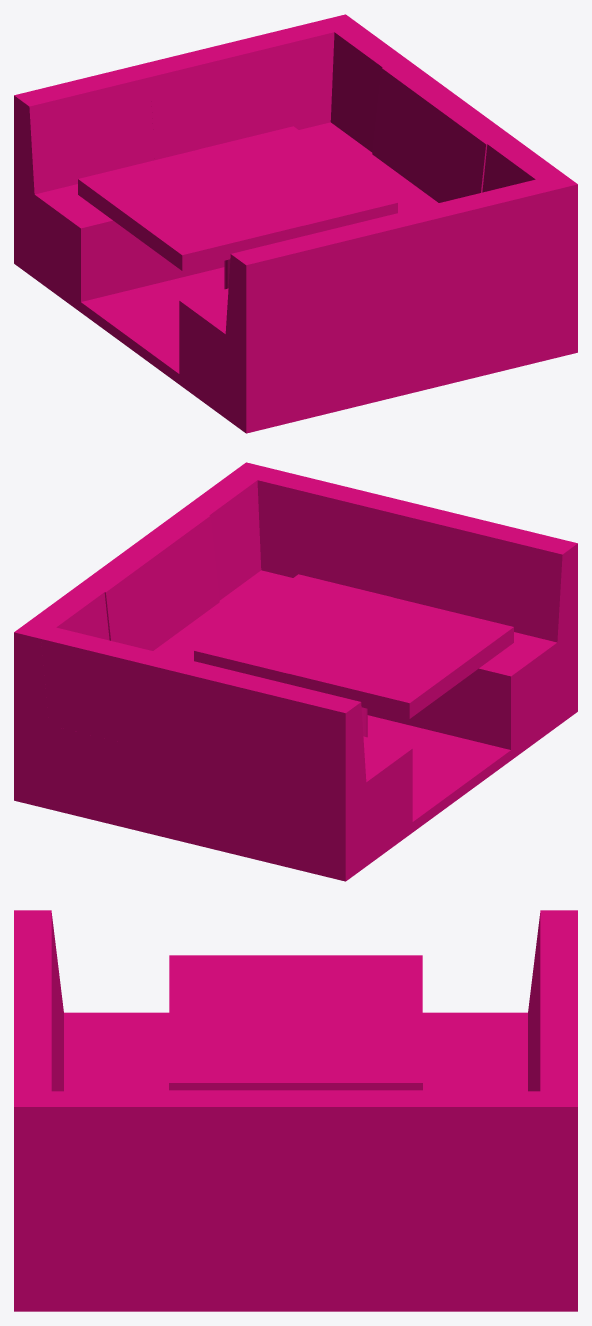
The model's file is table2.dae.
3 views of the same model, one above another, from view 1: azimuth 30°, elevation 25°; view 2: azimuth 150°, elevation 25°; view 3: azimuth 270°, elevation 25° (orthographic). The views are drawn at different scales.
Parts seen in each view (by area): view 1: 28mm_Restaurant_Booth_Horseshoe; view 2: 28mm_Restaurant_Booth_Horseshoe; view 3: 28mm_Restaurant_Booth_Horseshoe.
Part boxes in pixels (x1=…): 28mm_Restaurant_Booth_Horseshoe: x1=14, y1=14, x2=577, y2=433; 28mm_Restaurant_Booth_Horseshoe: x1=14, y1=462, x2=577, y2=881; 28mm_Restaurant_Booth_Horseshoe: x1=14, y1=910, x2=577, y2=1311.
Size of the model in its own units: 0.33 by 0.4 by 0.16.
